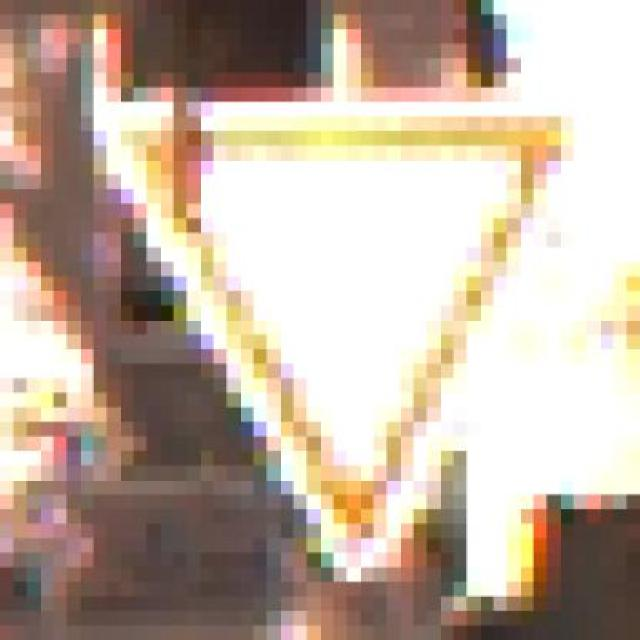Give Way: (93, 58, 573, 596)
